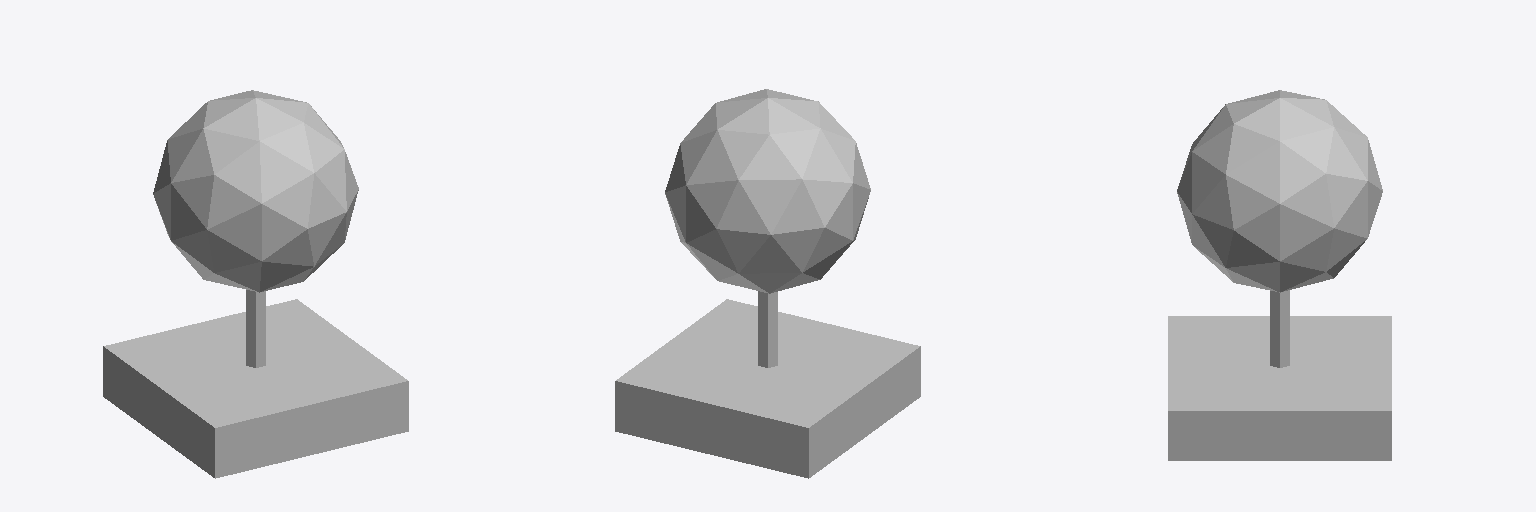
The model's file is SAPLING.obj.
3 renders of one model, left to right at view 1: azimuth 30°, elevation 25°; view 2: azimuth 150°, elevation 25°; view 3: azimuth 270°, elevation 25°, orthographic.
Visible parts, largest first — view 1: SAPLING; view 2: SAPLING; view 3: SAPLING.
Part boxes in pixels (bbox=[...]): SAPLING: bbox=[103, 90, 408, 478]; SAPLING: bbox=[615, 89, 920, 478]; SAPLING: bbox=[1168, 90, 1391, 460].
Bounding box in the file's own units: 2 × 3.12 × 2.